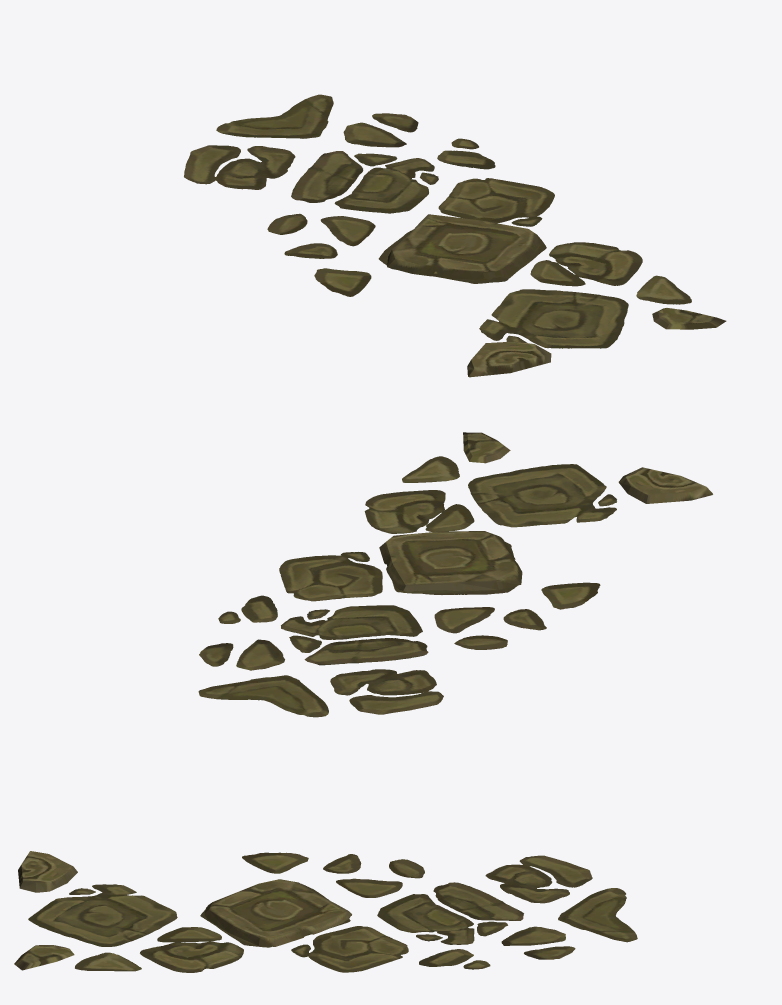
The model's file is pavers_straight_01.fbx.
The picture shows the model from 3 angles, top to bottom: view 1: azimuth 30°, elevation 25°; view 2: azimuth 150°, elevation 25°; view 3: azimuth 270°, elevation 25°; orthographic projection. The views are drawn at different scales.
Visible parts, largest first — view 1: obj0.116; view 2: obj0.116; view 3: obj0.116.
Part boxes in pixels (x1=…): obj0.116: x1=184, y1=94, x2=726, y2=377; obj0.116: x1=198, y1=432, x2=712, y2=717; obj0.116: x1=14, y1=851, x2=637, y2=972.
Size of the model in its own units: 5 by 0.1427 by 10.16.
